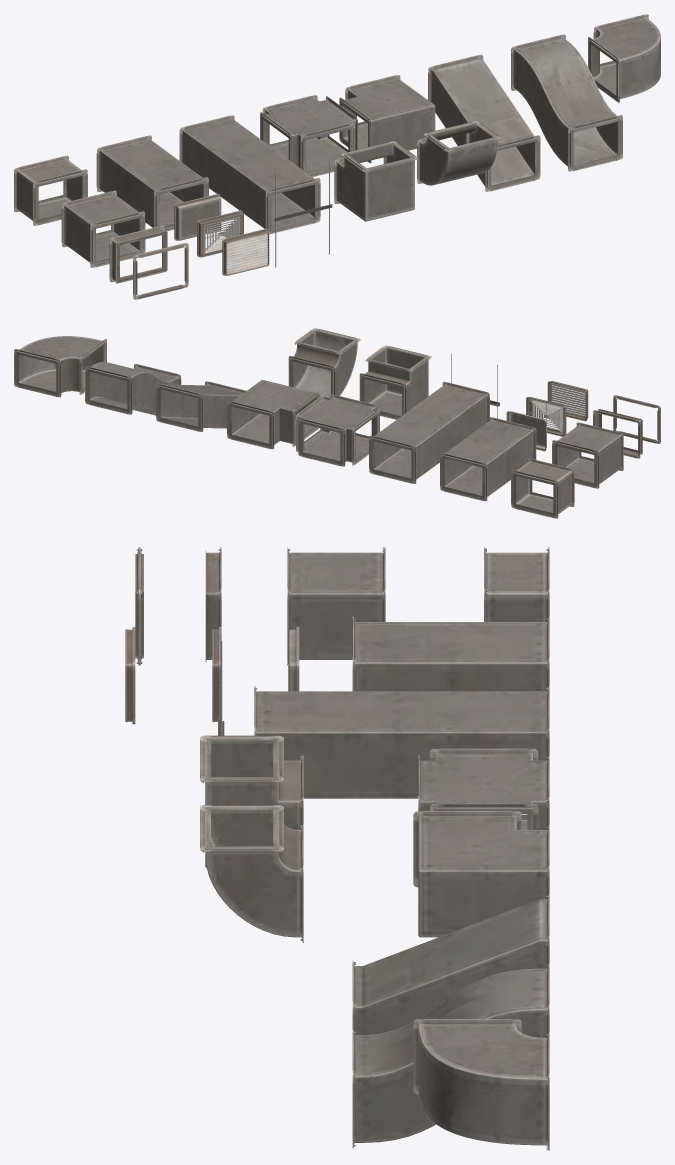
The model's file is airduct.glb.
The picture shows the model from 3 angles, top to bottom: view 1: azimuth 30°, elevation 25°; view 2: azimuth 150°, elevation 25°; view 3: azimuth 270°, elevation 25°; orthographic projection. The views are drawn at different scales.
Visible parts, largest first — view 1: modular_airduct_rectangular_01_tripple_01, modular_airduct_rectangular_01_transition_double_02, modular_airduct_rectangular_01_transition_double_01, modular_airduct_rectangular_01_double_01, modular_airduct_rectangular_01_splitter_01, modular_airduct_rectangular_01_corner_01, modular_airduct_rectangular_01_corner_02, modular_airduct_rectangular_01_bend_02, modular_airduct_rectangular_01_single_01, modular_airduct_rectangular_01_bend_01, modular_airduct_rectangular_01_half_01, modular_airduct_rectangular_01_vent_01 (+4 smaller); view 2: modular_airduct_rectangular_01_tripple_01, modular_airduct_rectangular_01_double_01, modular_airduct_rectangular_01_splitter_01, modular_airduct_rectangular_01_corner_02, modular_airduct_rectangular_01_bend_02, modular_airduct_rectangular_01_corner_01, modular_airduct_rectangular_01_bend_01, modular_airduct_rectangular_01_transition_double_02, modular_airduct_rectangular_01_single_01, modular_airduct_rectangular_01_transition_double_01, modular_airduct_rectangular_01_half_01, modular_airduct_rectangular_01_vent_01 (+4 smaller); view 3: modular_airduct_rectangular_01_tripple_01, modular_airduct_rectangular_01_bend_02, modular_airduct_rectangular_01_corner_02, modular_airduct_rectangular_01_double_01, modular_airduct_rectangular_01_transition_double_01, modular_airduct_rectangular_01_transition_double_02, modular_airduct_rectangular_01_bend_01, modular_airduct_rectangular_01_single_01, modular_airduct_rectangular_01_splitter_01, modular_airduct_rectangular_01_corner_01, modular_airduct_rectangular_01_half_01, modular_airduct_rectangular_01_connector_01 (+3 smaller).
Boxes of the visible parts, <box> form: modular_airduct_rectangular_01_tripple_01: <box>179,115,320,233</box>; modular_airduct_rectangular_01_transition_double_02: <box>511,34,622,171</box>; modular_airduct_rectangular_01_transition_double_01: <box>428,54,540,191</box>; modular_airduct_rectangular_01_double_01: <box>96,135,208,231</box>; modular_airduct_rectangular_01_splitter_01: <box>260,95,357,176</box>; modular_airduct_rectangular_01_corner_01: <box>334,141,417,221</box>; modular_airduct_rectangular_01_corner_02: <box>339,74,435,163</box>; modular_airduct_rectangular_01_bend_02: <box>588,14,660,102</box>; modular_airduct_rectangular_01_single_01: <box>61,190,145,267</box>; modular_airduct_rectangular_01_bend_01: <box>417,121,500,185</box>; modular_airduct_rectangular_01_half_01: <box>14,155,87,225</box>; modular_airduct_rectangular_01_vent_01: <box>222,229,269,275</box>; modular_airduct_rectangular_01_tripple_01: <box>369,381,489,483</box>; modular_airduct_rectangular_01_double_01: <box>440,417,536,501</box>; modular_airduct_rectangular_01_splitter_01: <box>296,394,379,466</box>; modular_airduct_rectangular_01_corner_02: <box>227,380,319,449</box>; modular_airduct_rectangular_01_bend_02: <box>14,336,106,397</box>; modular_airduct_rectangular_01_corner_01: <box>359,345,431,419</box>; modular_airduct_rectangular_01_bend_01: <box>288,328,360,399</box>; modular_airduct_rectangular_01_transition_double_02: <box>85,361,181,415</box>; modular_airduct_rectangular_01_single_01: <box>552,422,623,488</box>; modular_airduct_rectangular_01_transition_double_01: <box>156,381,246,431</box>; modular_airduct_rectangular_01_half_01: <box>511,458,574,518</box>; modular_airduct_rectangular_01_vent_01: <box>547,381,588,421</box>; modular_airduct_rectangular_01_tripple_01: <box>254,686,549,798</box>; modular_airduct_rectangular_01_bend_02: <box>413,1019,549,1150</box>; modular_airduct_rectangular_01_corner_02: <box>413,811,549,937</box>; modular_airduct_rectangular_01_double_01: <box>352,616,549,691</box>; modular_airduct_rectangular_01_transition_double_01: <box>352,894,549,1035</box>; modular_airduct_rectangular_01_transition_double_02: <box>352,963,549,1148</box>; modular_airduct_rectangular_01_bend_01: <box>200,805,303,942</box>; modular_airduct_rectangular_01_single_01: <box>287,547,385,665</box>; modular_airduct_rectangular_01_splitter_01: <box>418,748,549,829</box>; modular_airduct_rectangular_01_corner_01: <box>200,735,303,867</box>; modular_airduct_rectangular_01_half_01: <box>484,547,549,621</box>; modular_airduct_rectangular_01_connector_01: <box>205,547,221,661</box>.
Size of the model in its own units: 7.66 by 1.26 by 2.59.
2 materials, 2 textured.
